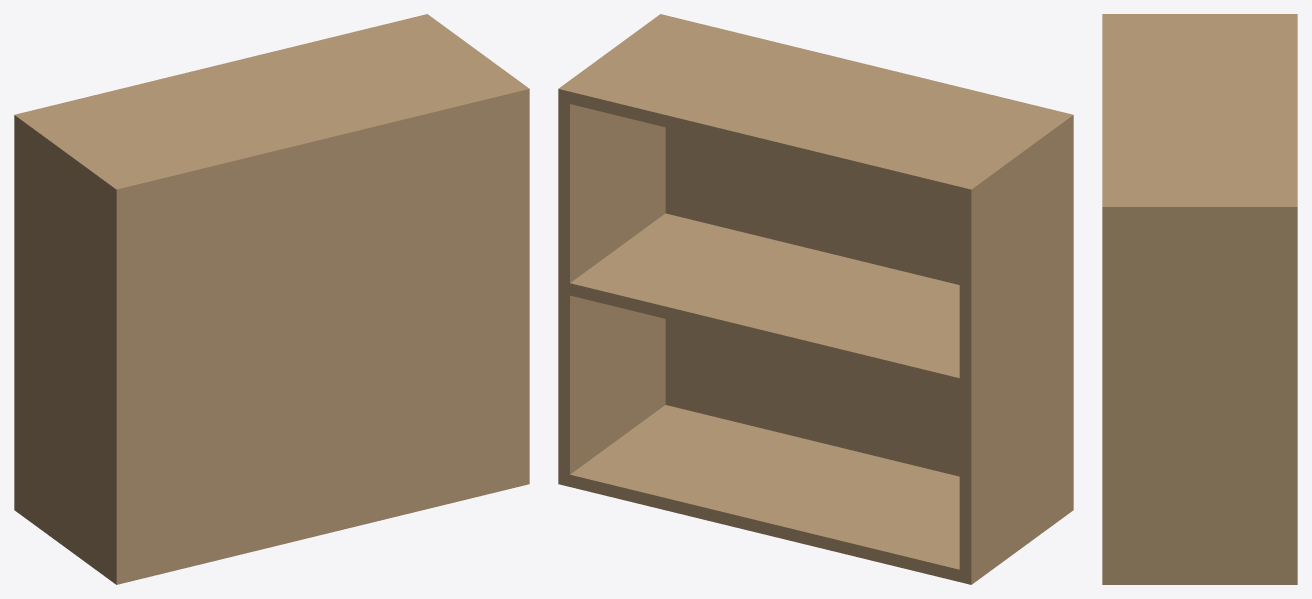
Rendered from parametric-wall-shelf-3rd-0700x0300x0640.glb.
3 renders of one model, left to right at view 1: azimuth 30°, elevation 25°; view 2: azimuth 150°, elevation 25°; view 3: azimuth 270°, elevation 25°, orthographic. The views are drawn at different scales.
Parts seen in each view (by area): view 1: backboard, end:-1, top, end:1; view 2: backboard, end:-1, top, bottom, shelf, end:1; view 3: end:1, top, backboard, end:-1.
Boxes of the visible parts, left/top/right/bottom form: backboard: left=109, top=84, right=529, bottom=584; end:-1: left=14, top=112, right=120, bottom=579; top: left=26, top=17, right=510, bottom=181; end:1: left=416, top=14, right=522, bottom=86; backboard: left=654, top=14, right=1073, bottom=514; end:-1: left=959, top=117, right=1066, bottom=584; top: left=570, top=22, right=1054, bottom=198; bottom: left=570, top=405, right=959, bottom=581; shelf: left=570, top=213, right=959, bottom=390; end:1: left=558, top=19, right=665, bottom=486; end:1: left=1115, top=201, right=1297, bottom=584; top: left=1115, top=19, right=1297, bottom=201; backboard: left=1102, top=14, right=1115, bottom=584; end:-1: left=1115, top=14, right=1297, bottom=19.
Size of the model in its own units: 0.7 by 0.64 by 0.3.
